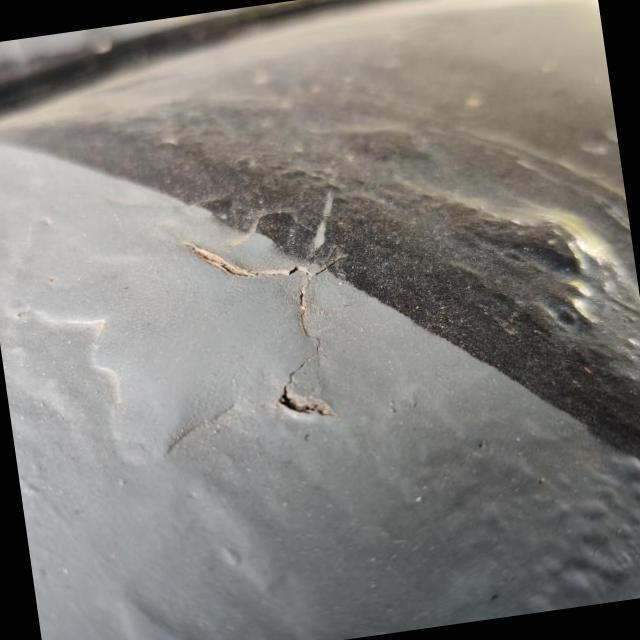Rupture: (173, 216, 370, 451)
